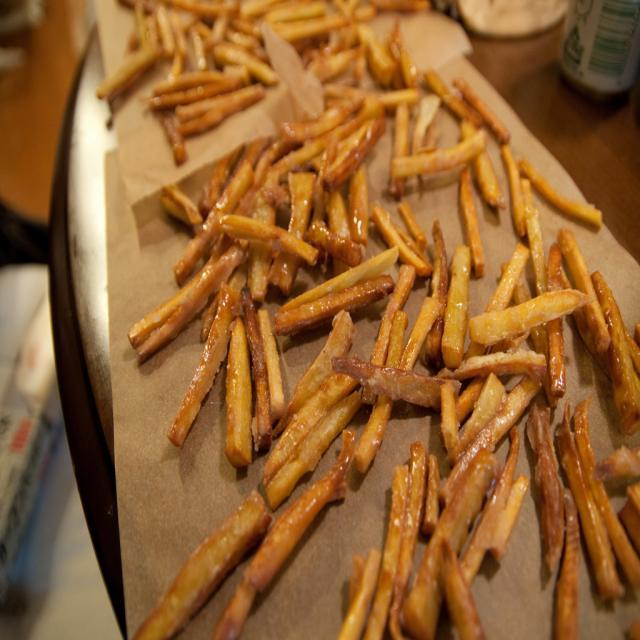French fries: (131, 0, 640, 639)
